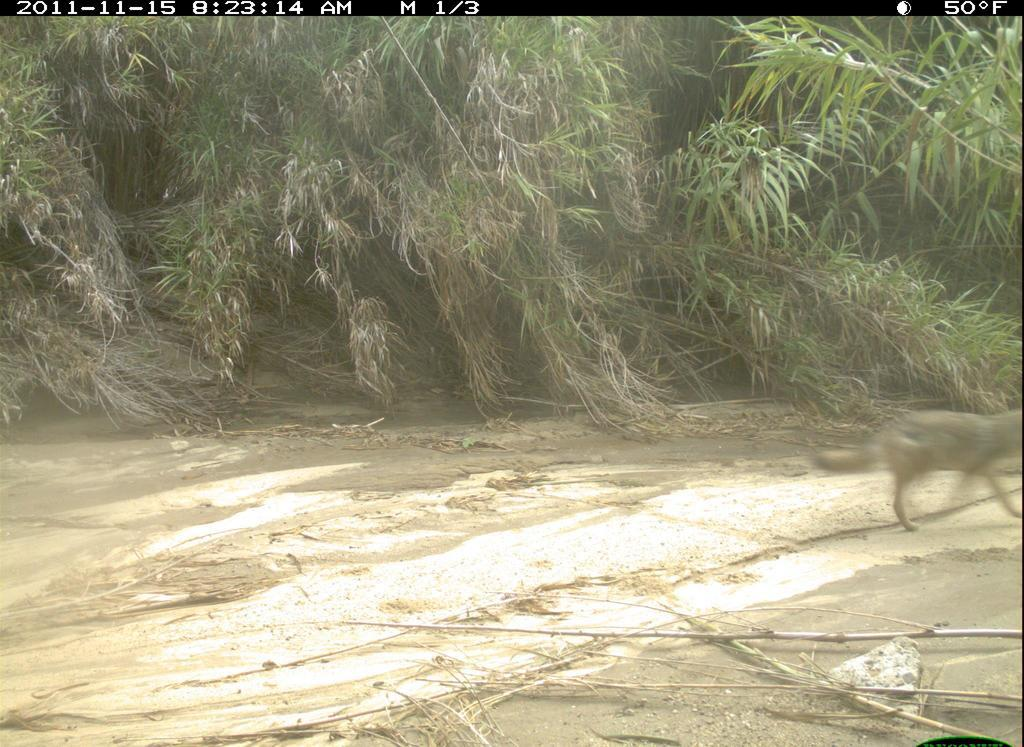coyote: (800, 396, 1024, 533)
